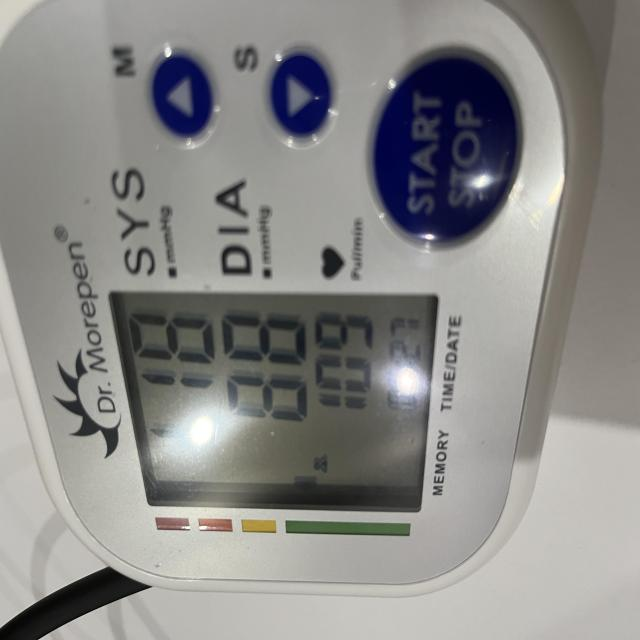bp: (0, 0, 610, 640)
